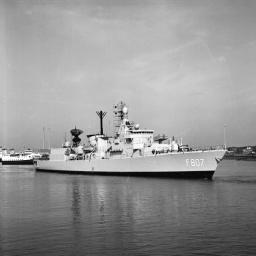Fragata: (33, 103, 232, 183)
